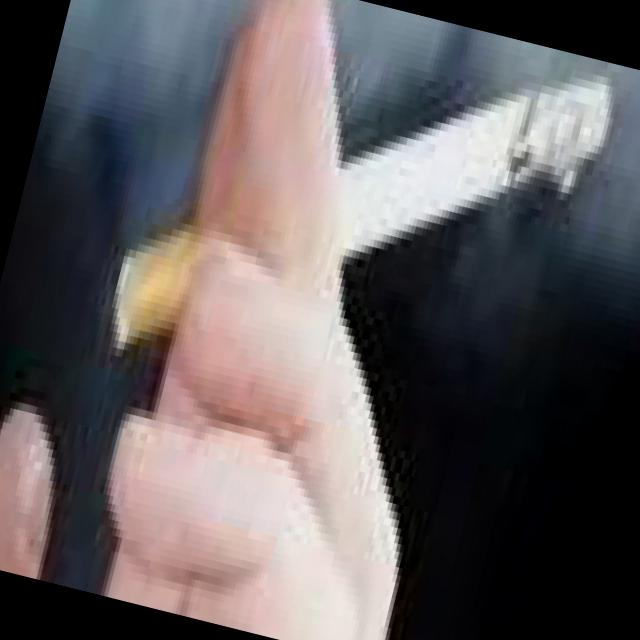smoke: (66, 0, 640, 485)
